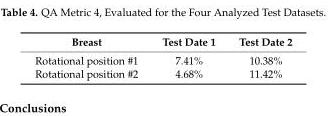table: (34, 34, 291, 79)
table column: (34, 34, 149, 79), (149, 34, 226, 79), (226, 34, 291, 79)
table column header: (34, 34, 291, 50)
table row: (34, 34, 291, 50), (34, 50, 291, 66), (34, 66, 291, 79)
